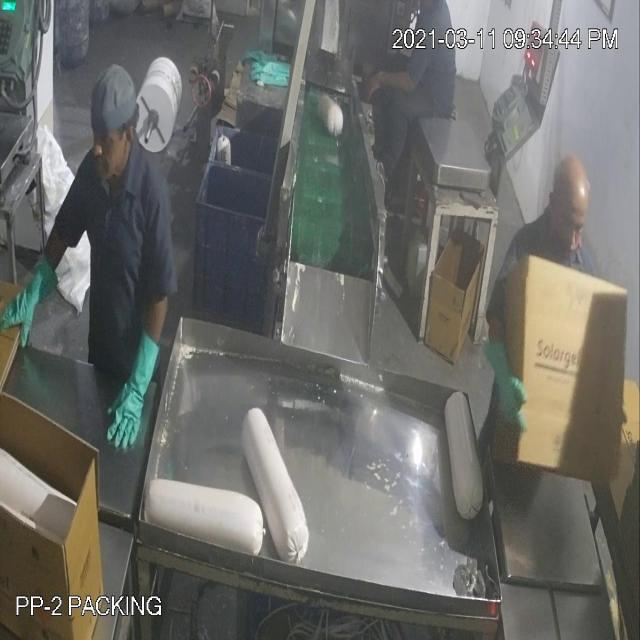gloves: (103, 319, 163, 460), (3, 245, 65, 351)
no-gloves: (361, 59, 422, 108)
